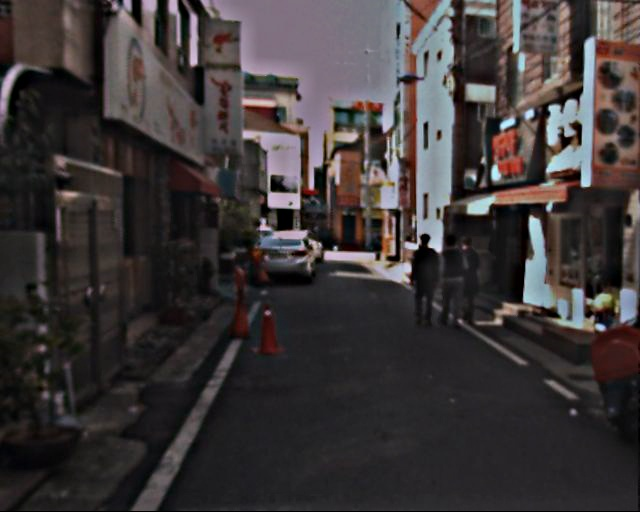person: (438, 235, 477, 330), (410, 235, 448, 328), (455, 235, 490, 321)
